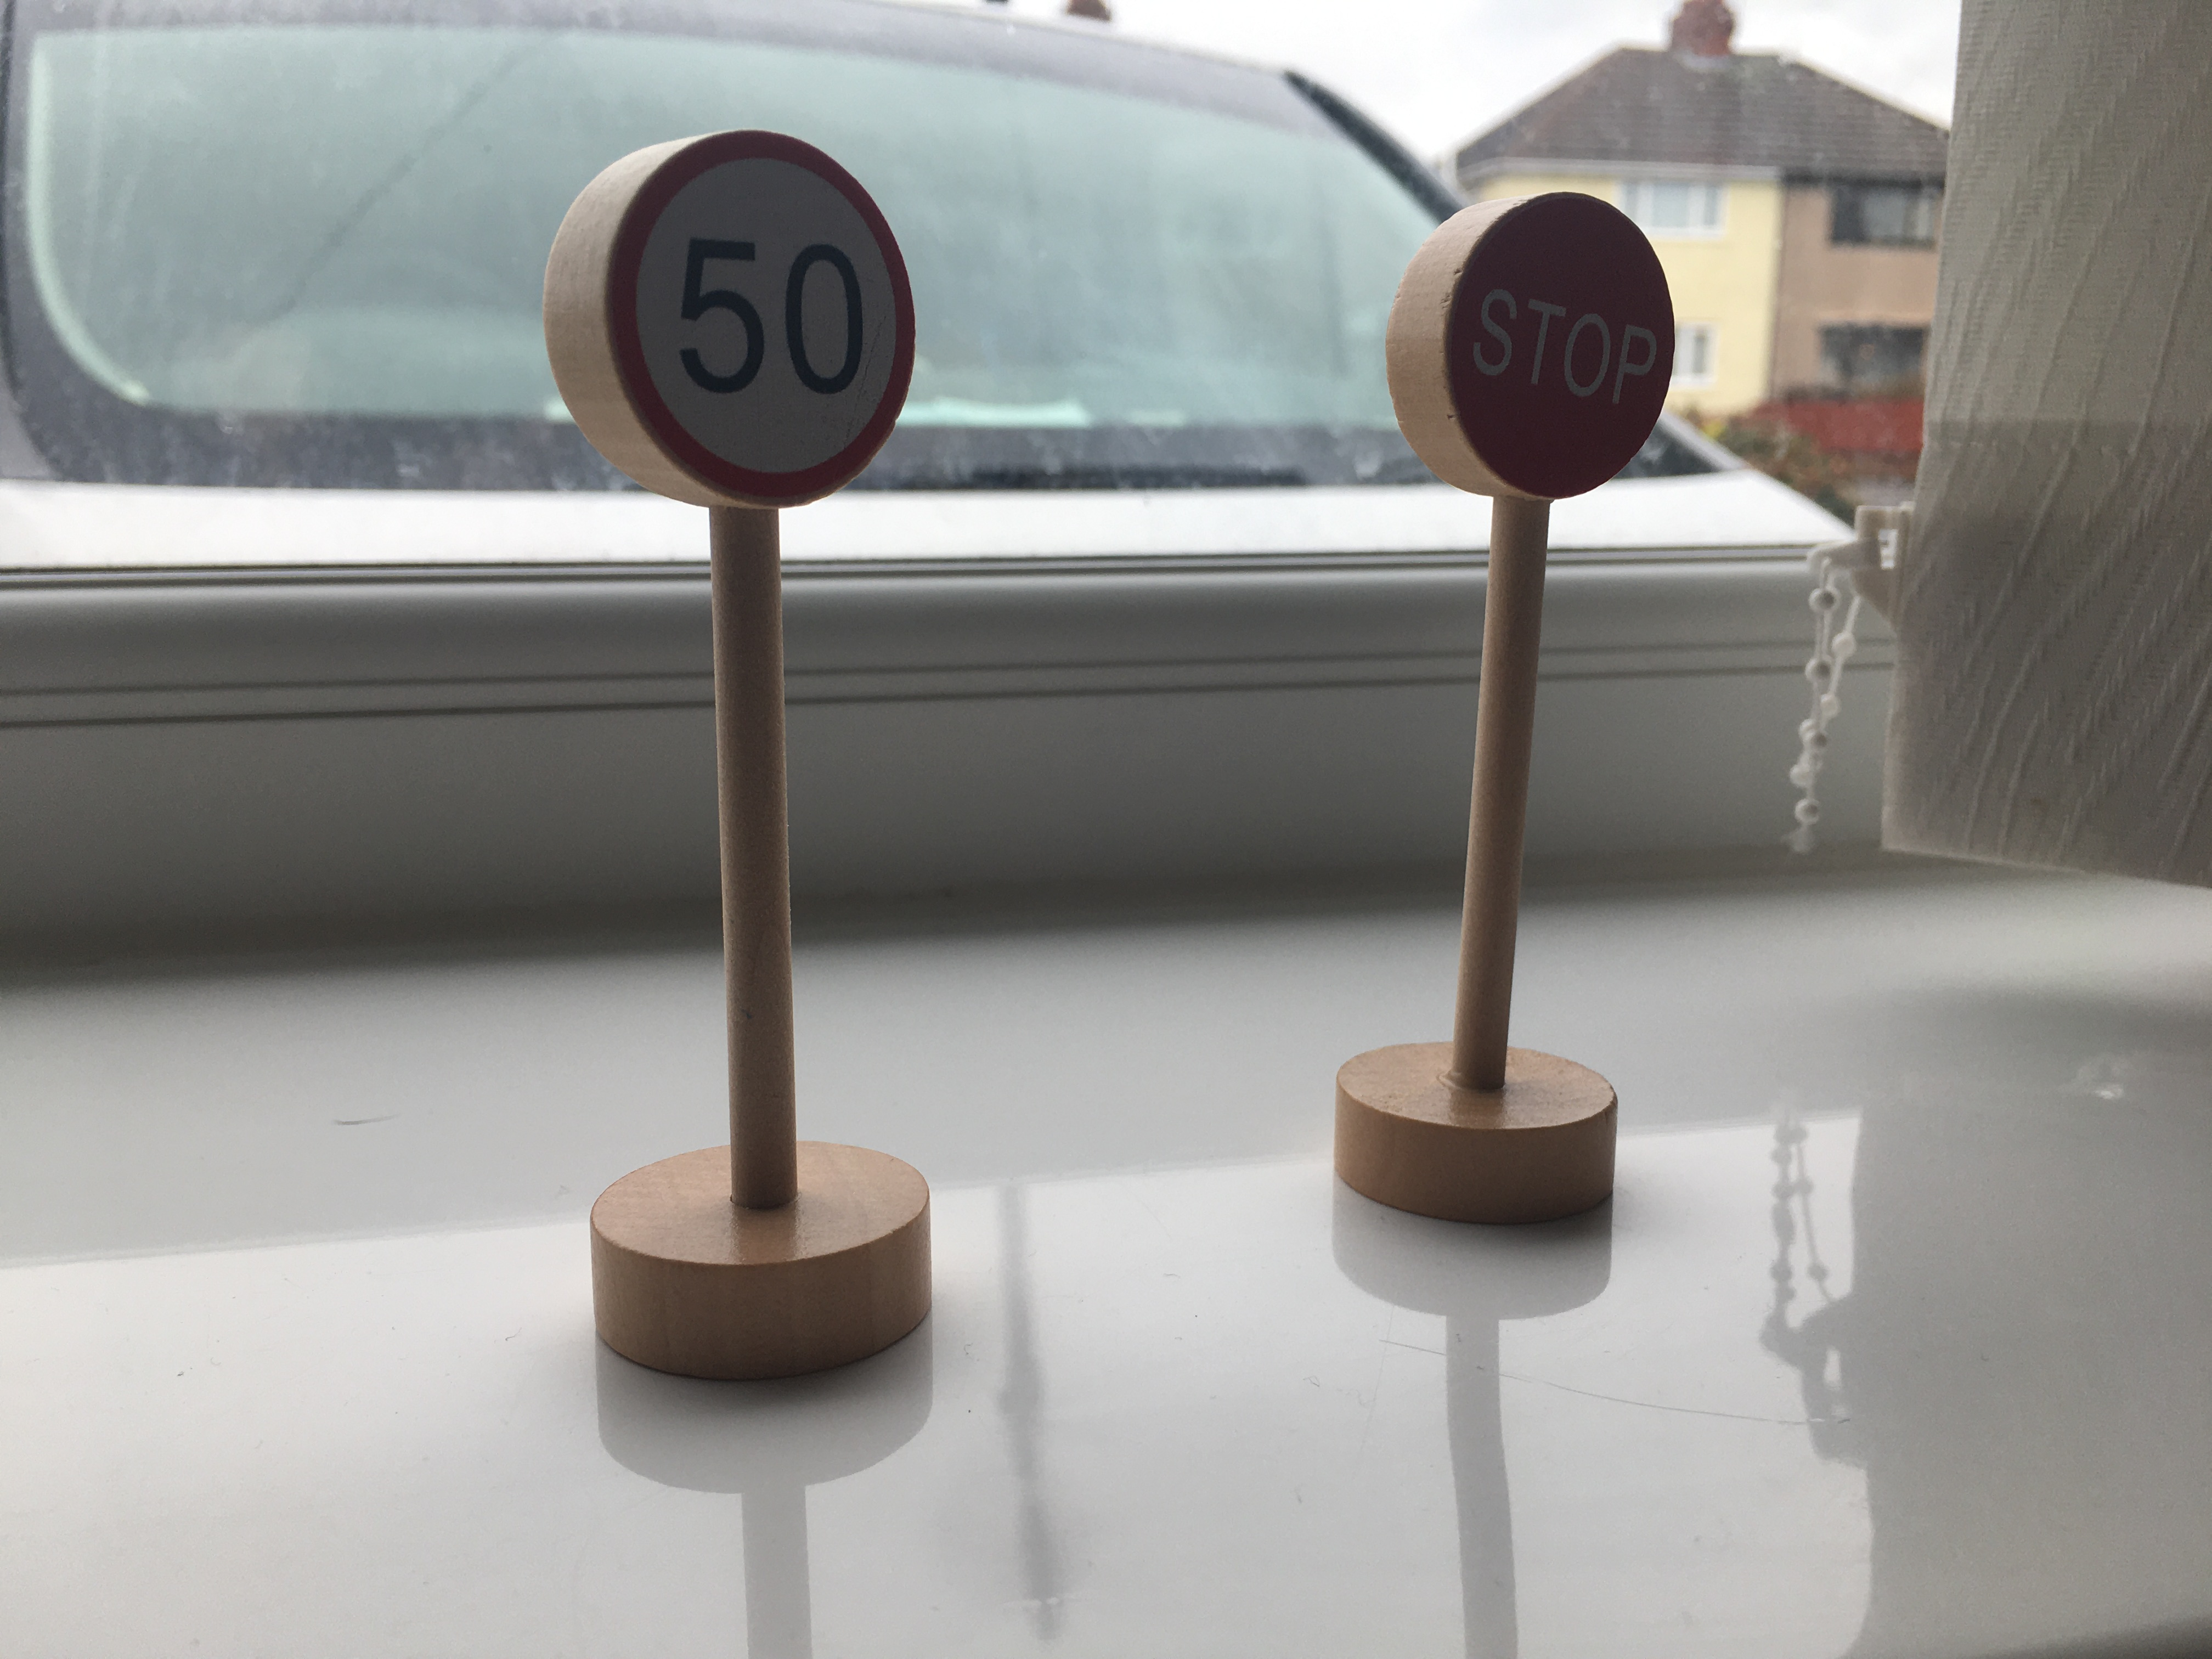Traffic_Sign_50: (514, 124, 958, 512)
Traffic_Sign_Stop: (1369, 181, 1710, 512)
